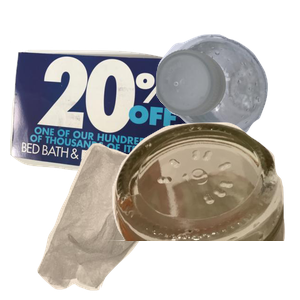glass: (89, 120, 300, 300)
paper: (10, 41, 242, 207)
plastic: (153, 31, 300, 161)
trash: (35, 140, 203, 300)
